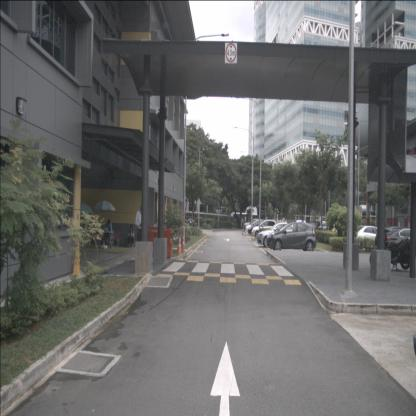human-pedestrian-adult: (135, 204, 146, 261), (127, 224, 134, 247), (242, 218, 245, 235)
movable_object-barrier: (141, 226, 173, 260)
movable_object-trafficcone: (177, 234, 181, 254), (182, 234, 184, 250)
vehicle-car: (266, 221, 316, 252), (375, 226, 415, 256), (258, 222, 302, 248), (352, 226, 394, 249), (251, 219, 281, 238), (185, 217, 195, 229)
vehicle-motorcycle: (369, 222, 411, 271)
